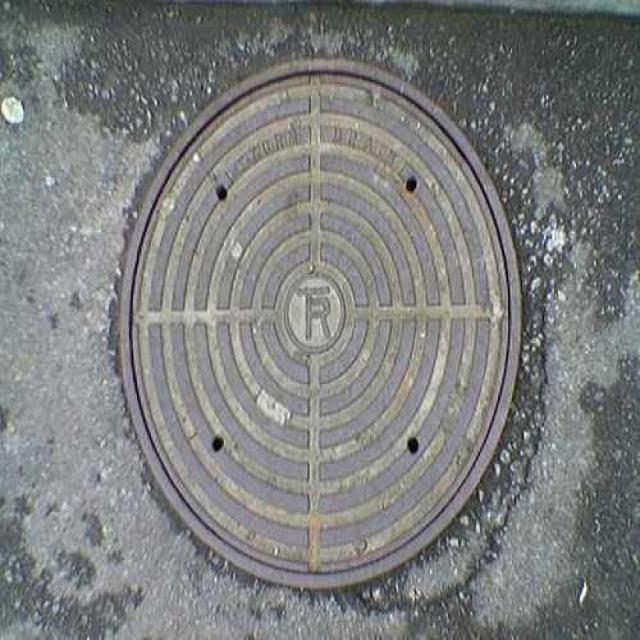manhole: (110, 60, 525, 594)
